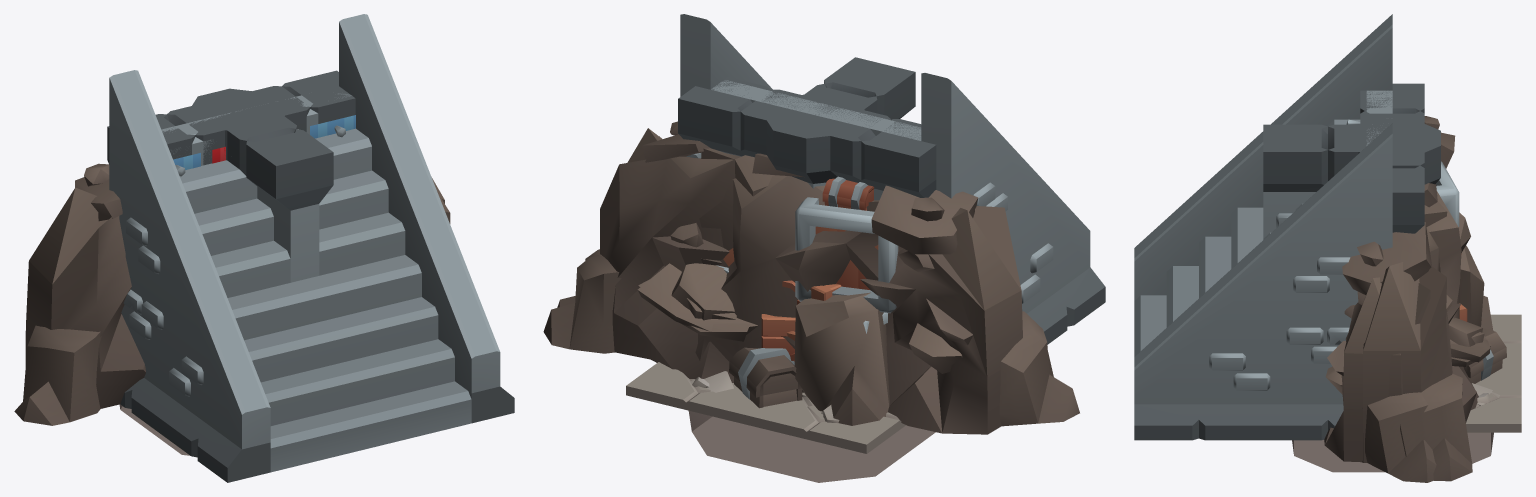
Rendered from dungeon.glb.
3 views of the same model, side by side, from view 1: azimuth 30°, elevation 25°; view 2: azimuth 150°, elevation 25°; view 3: azimuth 270°, elevation 25° (orthographic). The views are drawn at different scales.
Visible parts, largest first — view 1: stairs, rubble_large, wall_Tsplit, wall, wall_arched, banner_triple_blue, pillar; view 2: rubble_large, rubble_half, stairs, floor_tile_big_grate, wall, box_stacked, wall_Tsplit, pillar, wall_arched, crates_stacked, floor_tile_large, floor_dirt_large_rocky; view 3: stairs, rubble_half, rubble_large, wall_Tsplit, wall, floor_tile_big_grate, box_stacked, wall_arched, pillar, floor_dirt_large, wall_endcap.
Boxes of the visible parts, box(x1,y1,x2,y2) form: stairs: box(109, 14, 514, 482); rubble_large: box(14, 163, 450, 425); wall_Tsplit: box(107, 71, 354, 282); wall: box(107, 71, 353, 164); wall_arched: box(107, 72, 355, 162); banner_triple_blue: box(173, 115, 355, 176); pillar: box(192, 88, 285, 160); rubble_large: box(557, 136, 1079, 434); rubble_half: box(543, 121, 772, 382); stairs: box(680, 14, 1105, 344); floor_tile_big_grate: box(626, 362, 935, 482); wall: box(678, 77, 936, 200); box_stacked: box(716, 176, 898, 408); wall_Tsplit: box(678, 57, 935, 187); pillar: box(766, 93, 864, 188); wall_arched: box(684, 94, 936, 200); crates_stacked: box(761, 284, 841, 361); floor_tile_large: box(689, 379, 825, 422); floor_dirt_large_rocky: box(690, 371, 839, 422); stairs: box(1134, 14, 1392, 440); rubble_half: box(1342, 202, 1490, 481); rubble_large: box(1324, 116, 1493, 482); wall_Tsplit: box(1263, 115, 1424, 238); wall: box(1360, 83, 1424, 233); floor_tile_big_grate: box(1292, 314, 1521, 472); box_stacked: box(1436, 161, 1506, 383); wall_arched: box(1360, 83, 1424, 232); pillar: box(1344, 124, 1440, 184); floor_dirt_large: box(1466, 393, 1521, 432); wall_endcap: box(1360, 138, 1424, 168).
Bounding box in the file's own units: 8.13 × 6.1 × 6.
Materials: 1 (1 with a texture image).
